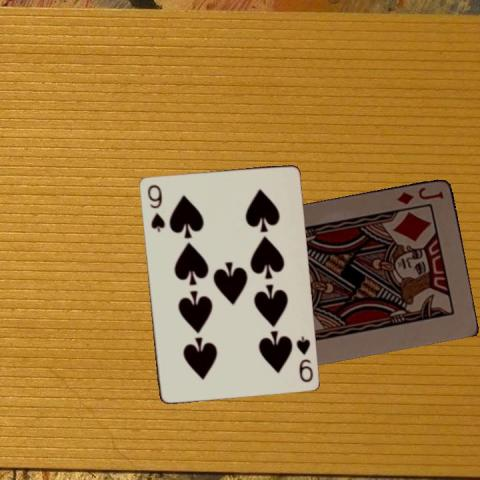9s: (144, 181, 166, 233), (293, 333, 314, 384)
Jd: (394, 184, 445, 205)
